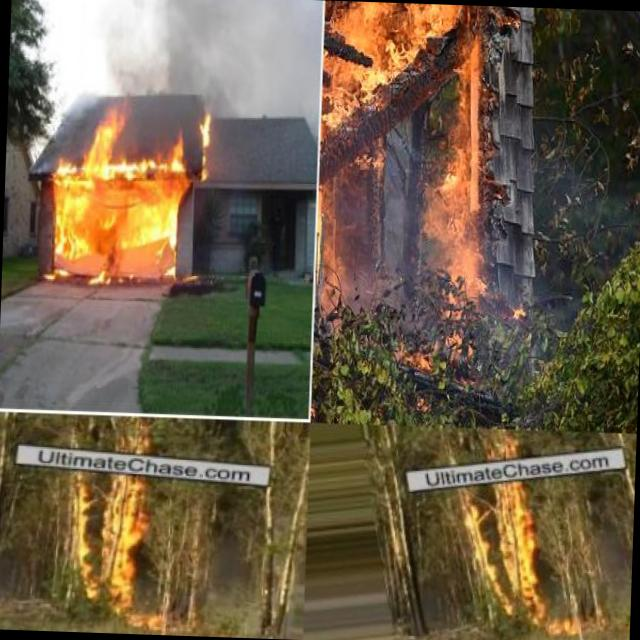fire: (328, 0, 498, 306), (48, 128, 185, 278), (456, 493, 587, 638), (64, 474, 177, 630), (193, 110, 212, 178)
smoke: (104, 0, 321, 98)
